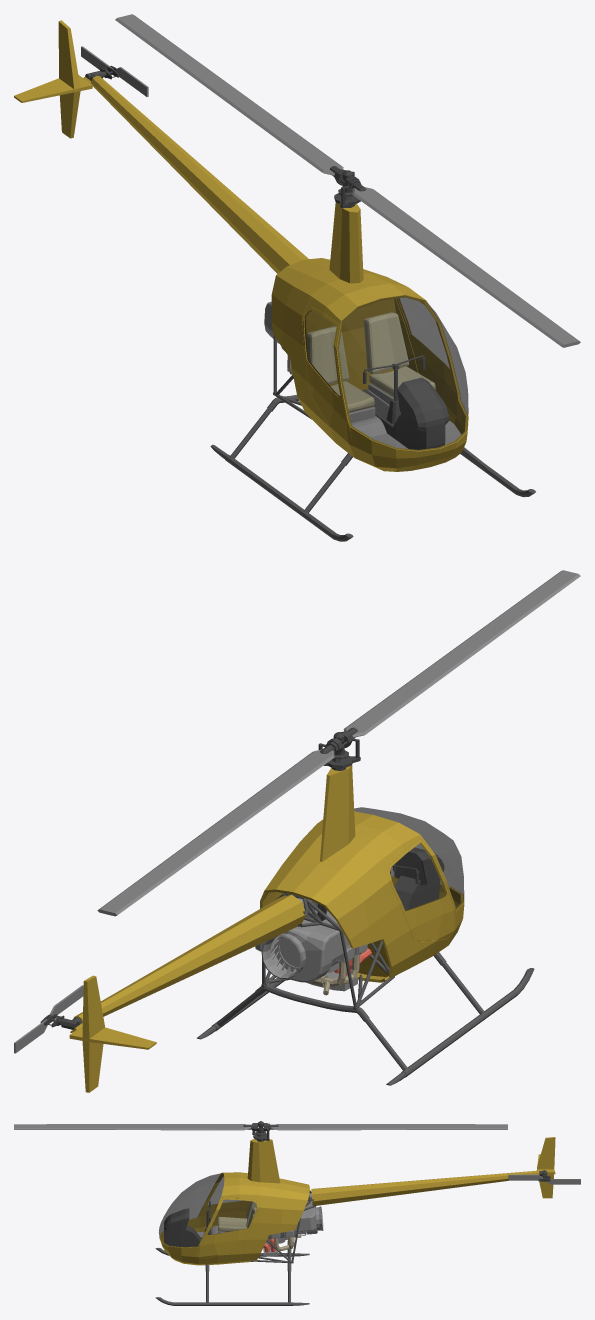
File: vehicle-heli.glb
3 renders of one model, top to bottom at view 1: azimuth 30°, elevation 25°; view 2: azimuth 150°, elevation 25°; view 3: azimuth 270°, elevation 25°, orthographic. The views are drawn at different scales.
Parts seen in each view (by area): view 1: Body, Window, Cockpit, Main Rotor, Door, Frame, Tail Rotor; view 2: Body, Main Rotor, Frame, Engine, Window, Door, Cockpit, Tail Rotor; view 3: Body, Window, Main Rotor, Door, Cockpit, Frame, Engine, Tail Rotor.
Boxes of the visible parts, x1=… form: Body: x1=14, y1=20, x2=468, y2=471; Window: x1=304, y1=295, x2=468, y2=450; Cockpit: x1=306, y1=312, x2=460, y2=449; Main Rotor: x1=115, y1=14, x2=580, y2=347; Door: x1=302, y1=298, x2=457, y2=445; Frame: x1=210, y1=335, x2=535, y2=541; Tail Rotor: x1=81, y1=46, x2=148, y2=96; Body: x1=57, y1=765, x2=464, y2=1092; Main Rotor: x1=97, y1=570, x2=580, y2=916; Frame: x1=196, y1=893, x2=534, y2=1085; Engine: x1=255, y1=897, x2=371, y2=995; Window: x1=354, y1=807, x2=464, y2=910; Door: x1=387, y1=838, x2=455, y2=941; Cockpit: x1=390, y1=847, x2=444, y2=910; Tail Rotor: x1=14, y1=985, x2=83, y2=1053; Body: x1=159, y1=1137, x2=555, y2=1265; Window: x1=159, y1=1173, x2=256, y2=1247; Main Rotor: x1=14, y1=1121, x2=507, y2=1141; Door: x1=197, y1=1175, x2=258, y2=1258; Cockpit: x1=164, y1=1201, x2=256, y2=1246; Frame: x1=155, y1=1190, x2=316, y2=1305; Engine: x1=263, y1=1193, x2=323, y2=1256; Tail Rotor: x1=508, y1=1174, x2=580, y2=1184.
Size of the model in its own units: 3.83 by 5.61 by 18.05.
Materials: 12 (1 with a texture image).
